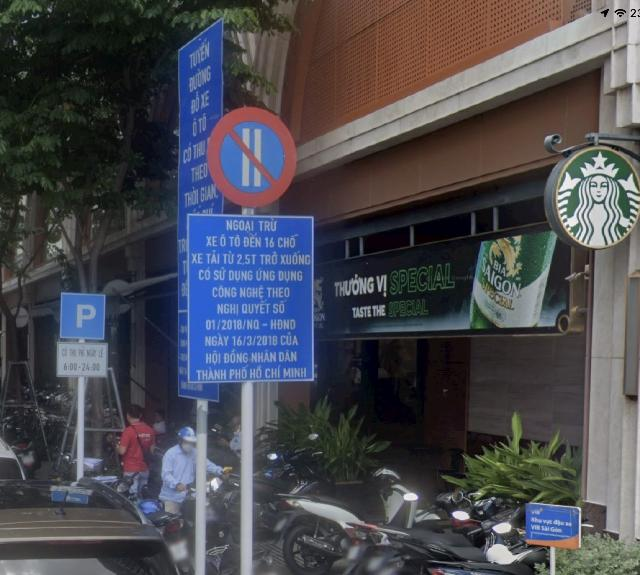131c-cam-do-xe-ngay-chan: (206, 106, 297, 208)
